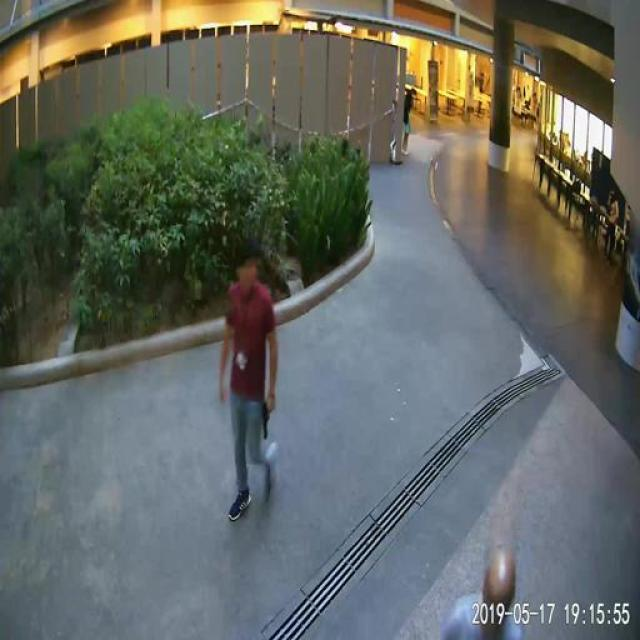Gun: (252, 389, 280, 446)
